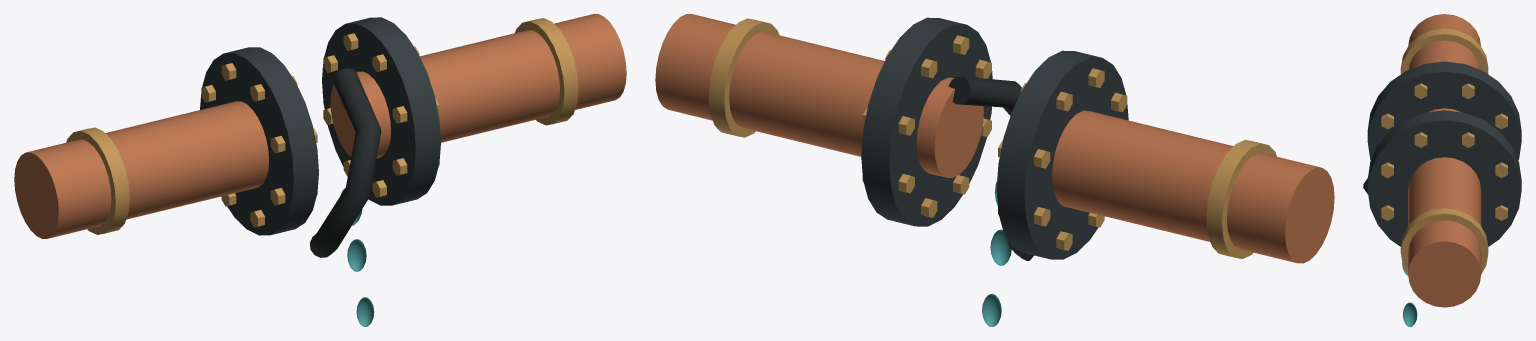
The model's file is coolant-broken.glb.
3 renders of one model, left to right at view 1: azimuth 30°, elevation 25°; view 2: azimuth 150°, elevation 25°; view 3: azimuth 270°, elevation 25°, orthographic. The views are drawn at different scales.
Parts seen in each view (by area): view 1: RB_coolant_broken; view 2: RB_coolant_broken; view 3: RB_coolant_broken.
Boxes of the visible parts, x1,y1,x2,y2 form: RB_coolant_broken: (14, 14, 626, 326); RB_coolant_broken: (655, 14, 1334, 326); RB_coolant_broken: (1363, 14, 1521, 326).
Size of the model in its own units: 0.81 by 0.3758 by 0.2385.
